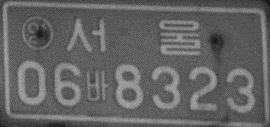0: (15, 59, 46, 106)
2: (187, 65, 218, 111)
3: (225, 66, 256, 114), (150, 64, 181, 110)
6: (53, 61, 82, 107)
8: (114, 62, 144, 109)
바: (85, 69, 108, 102)
서울_D: (64, 17, 202, 56)
영: (20, 15, 53, 51)
